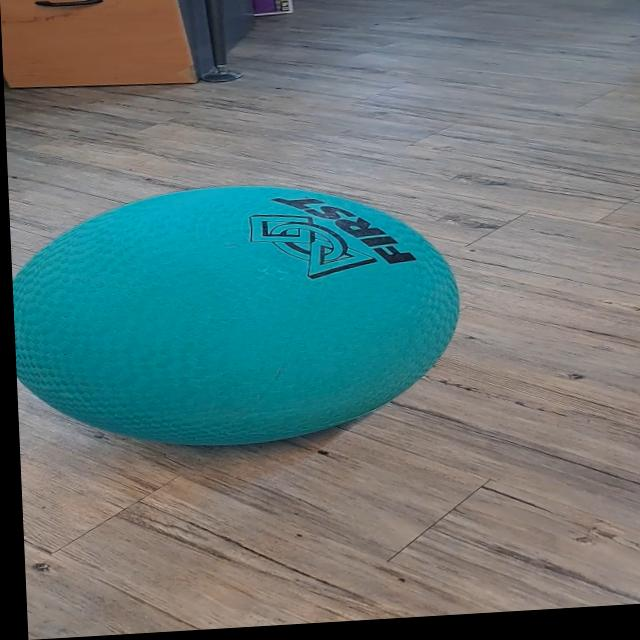ALGAE: (10, 171, 467, 459)
